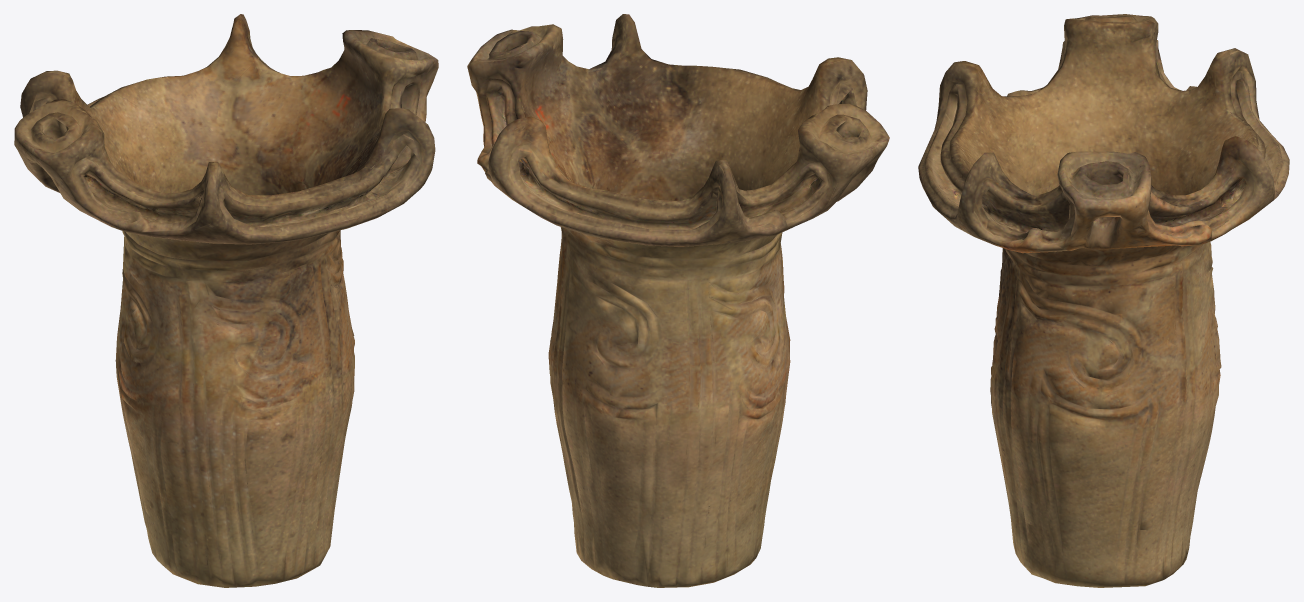
3 views of the same model, side by side, from view 1: azimuth 30°, elevation 25°; view 2: azimuth 150°, elevation 25°; view 3: azimuth 270°, elevation 25° (orthographic). The views are drawn at different scales.
Parts seen in each view (by area): view 1: UD0322_low; view 2: UD0322_low; view 3: UD0322_low.
Boxes of the visible parts, <box> form: UD0322_low: <box>14,14,438,587</box>; UD0322_low: <box>467,14,889,587</box>; UD0322_low: <box>918,14,1289,587</box>.
Size of the model in its own units: 212 by 243 by 177.
1 material, 1 textured.
